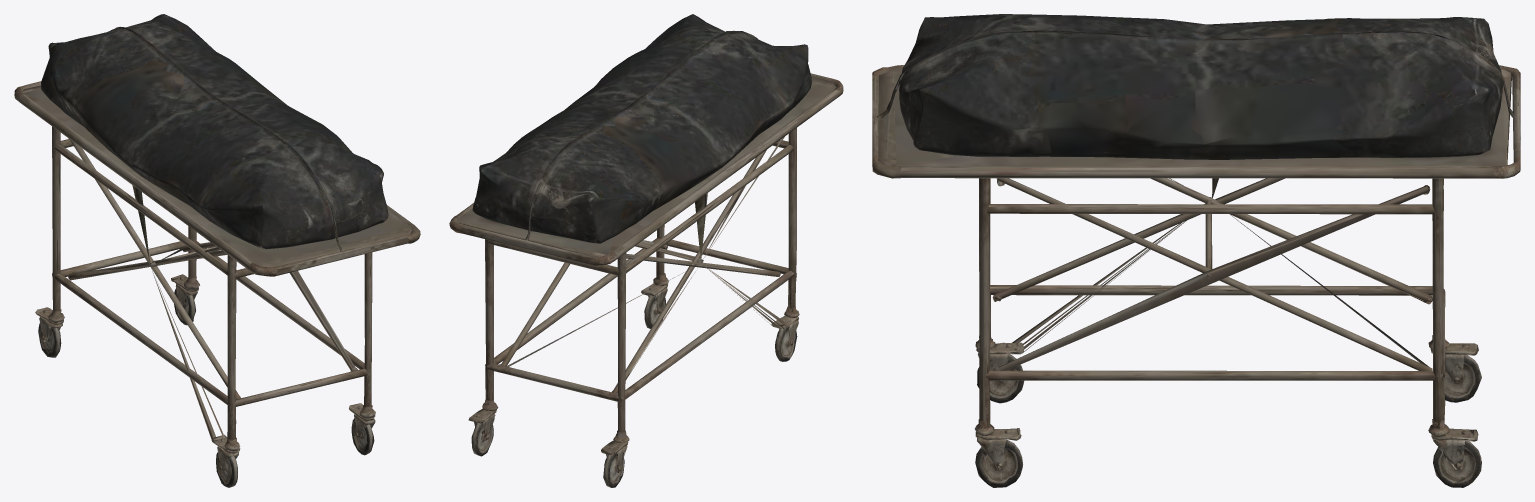
The model's file is gurney.glb.
The picture shows the model from 3 angles, left to right: view 1: azimuth 30°, elevation 25°; view 2: azimuth 150°, elevation 25°; view 3: azimuth 270°, elevation 25°; orthographic projection. The views are drawn at different scales.
Size of the model in its own units: 0.4002 by 0.7044 by 1.
Materials: 1 (1 with a texture image).
